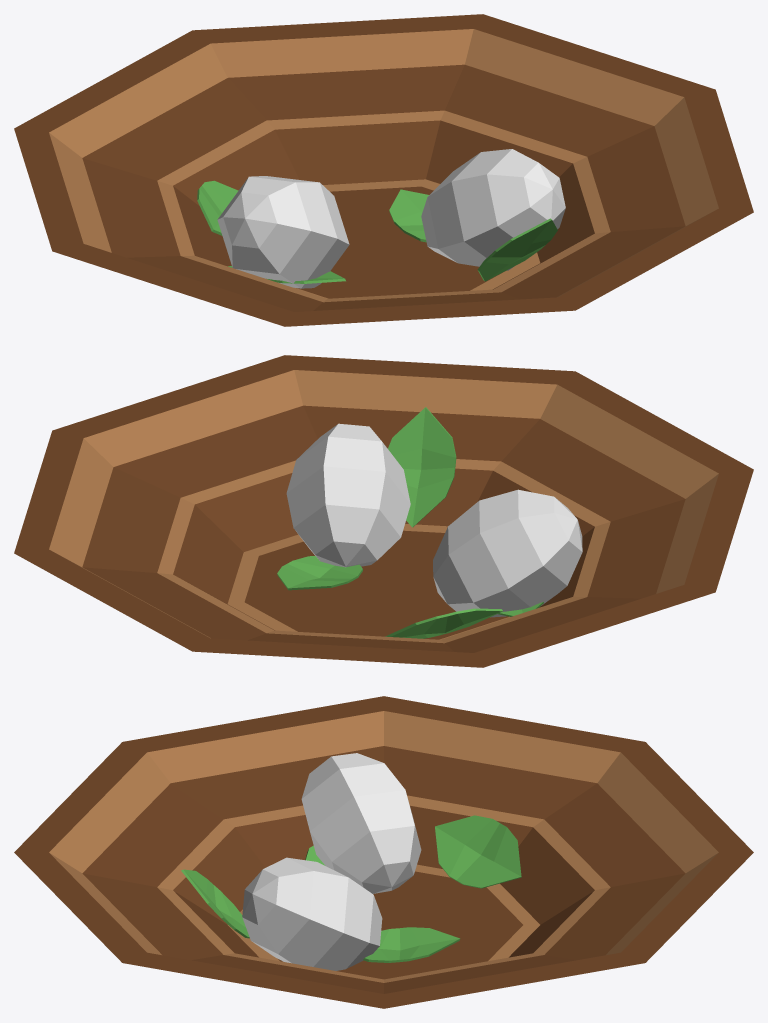
Rendered from Yumurta.fbx.
The picture shows the model from 3 angles, top to bottom: view 1: azimuth 30°, elevation 25°; view 2: azimuth 150°, elevation 25°; view 3: azimuth 270°, elevation 25°; orthographic projection. The views are drawn at different scales.
Visible parts, largest first — view 1: Yumurtlama; view 2: Yumurtlama; view 3: Yumurtlama.
Part boxes in pixels (box(x1,y1,x2,y2)): Yumurtlama: box(14, 14, 753, 326); Yumurtlama: box(14, 355, 753, 667); Yumurtlama: box(14, 696, 753, 1008).
Bounding box in the file's own units: 199 × 35.09 × 199.
